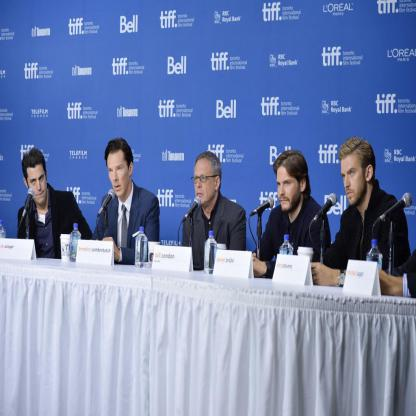face: (342, 159, 367, 206), (277, 168, 301, 214), (109, 151, 130, 198), (195, 161, 216, 206), (29, 166, 48, 205)
